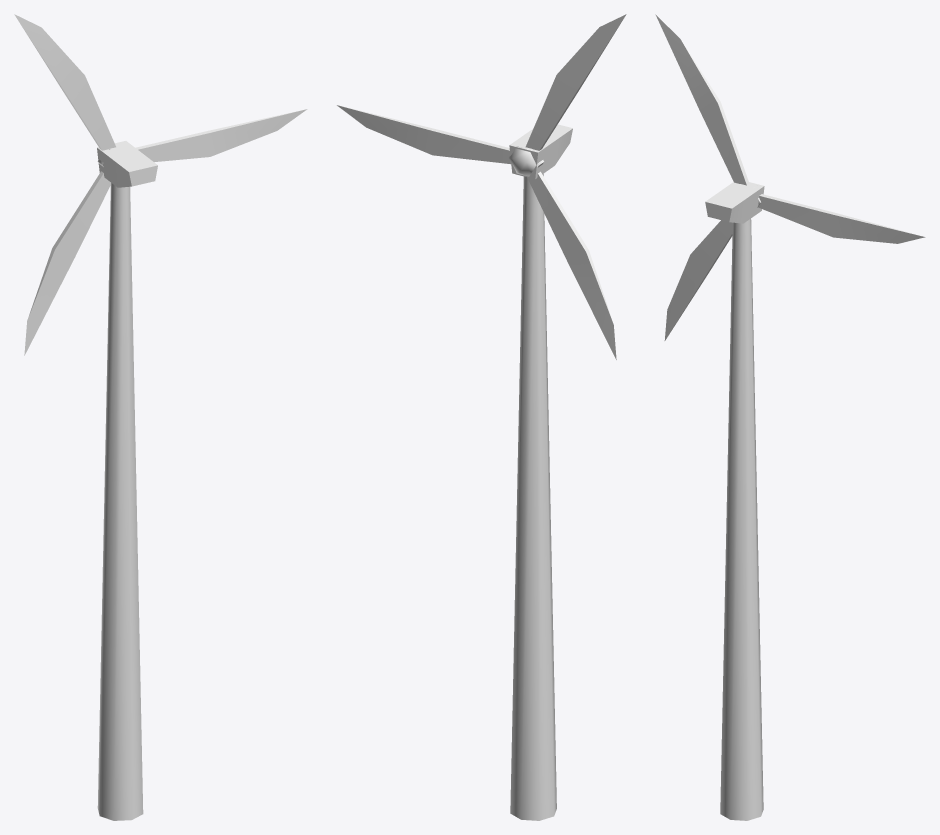
Rendered from windmill.fbx.
3 views of the same model, side by side, from view 1: azimuth 30°, elevation 25°; view 2: azimuth 150°, elevation 25°; view 3: azimuth 330°, elevation 25° (orthographic). The views are drawn at different scales.
Visible parts, largest first — view 1: WindMill, windfan; view 2: WindMill, windfan; view 3: WindMill, windfan.
Boxes of the visible parts, x1=… form: WindMill: x1=97, y1=141, x2=157, y2=820; windfan: x1=14, y1=14, x2=307, y2=355; WindMill: x1=509, y1=124, x2=572, y2=820; windfan: x1=337, y1=14, x2=626, y2=359; WindMill: x1=705, y1=182, x2=764, y2=820; windfan: x1=655, y1=14, x2=925, y2=340.
Bounding box in the file's own units: 0.1019 × 0.2739 × 0.0223.
